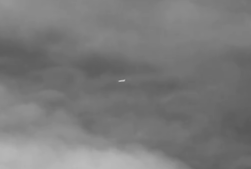Target: (119, 80, 125, 82)
